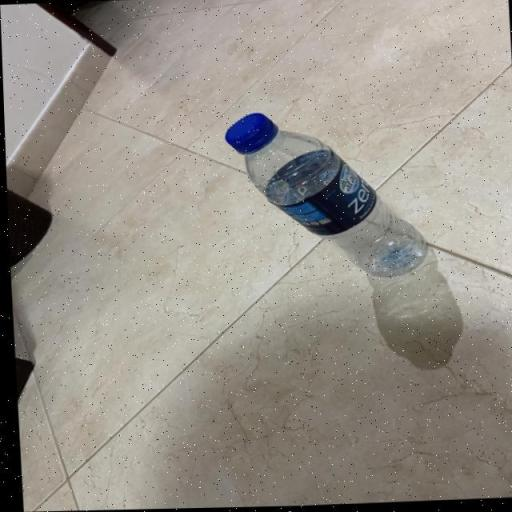plastic: (223, 114, 426, 280)
